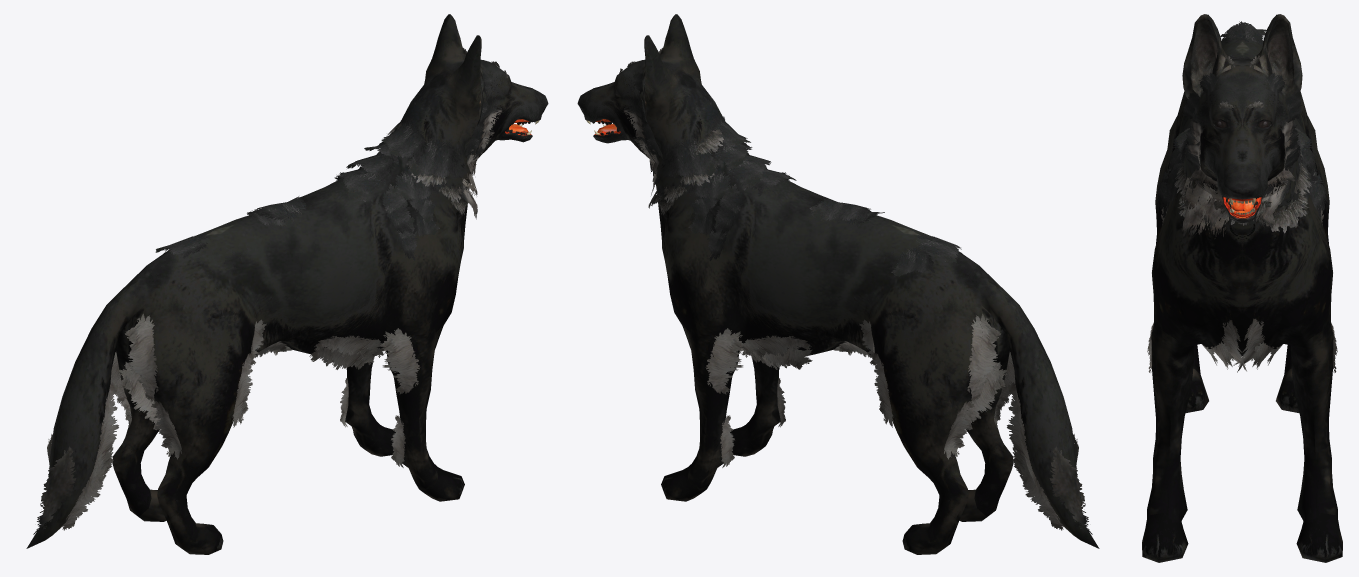
The model's file is nazi_hellhound_black.obj.
3 views of the same model, side by side, from view 1: azimuth 30°, elevation 25°; view 2: azimuth 150°, elevation 25°; view 3: azimuth 270°, elevation 25° (orthographic). The views are drawn at different scales.
Parts seen in each view (by area): view 1: TomMesh_0Mesh, TomMesh_3Mesh; view 2: TomMesh_0Mesh, TomMesh_3Mesh; view 3: TomMesh_0Mesh, TomMesh_3Mesh, TomMesh_1Mesh.
Part boxes in pixels (box(x1,y1,x2,y2)): TomMesh_0Mesh: box(26, 14, 548, 554); TomMesh_3Mesh: box(33, 48, 508, 535); TomMesh_0Mesh: box(577, 14, 1099, 554); TomMesh_3Mesh: box(618, 48, 1092, 535); TomMesh_0Mesh: box(1142, 14, 1342, 562); TomMesh_3Mesh: box(1147, 21, 1337, 372); TomMesh_1Mesh: box(1225, 197, 1259, 217).
Bounding box in the file's own units: 134 × 106 × 34.3.
